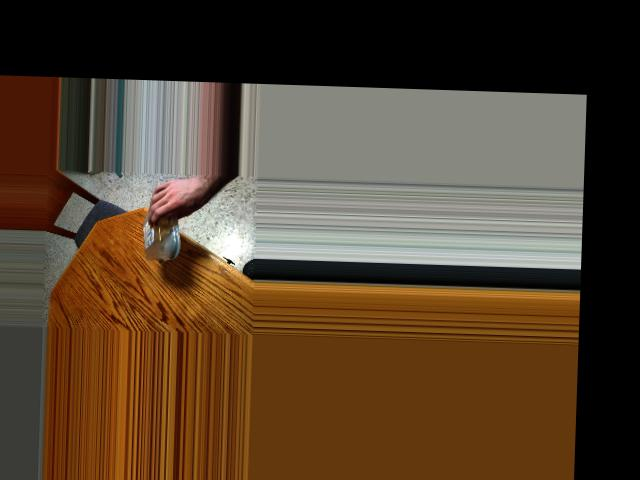cheese: (129, 205, 205, 262)
